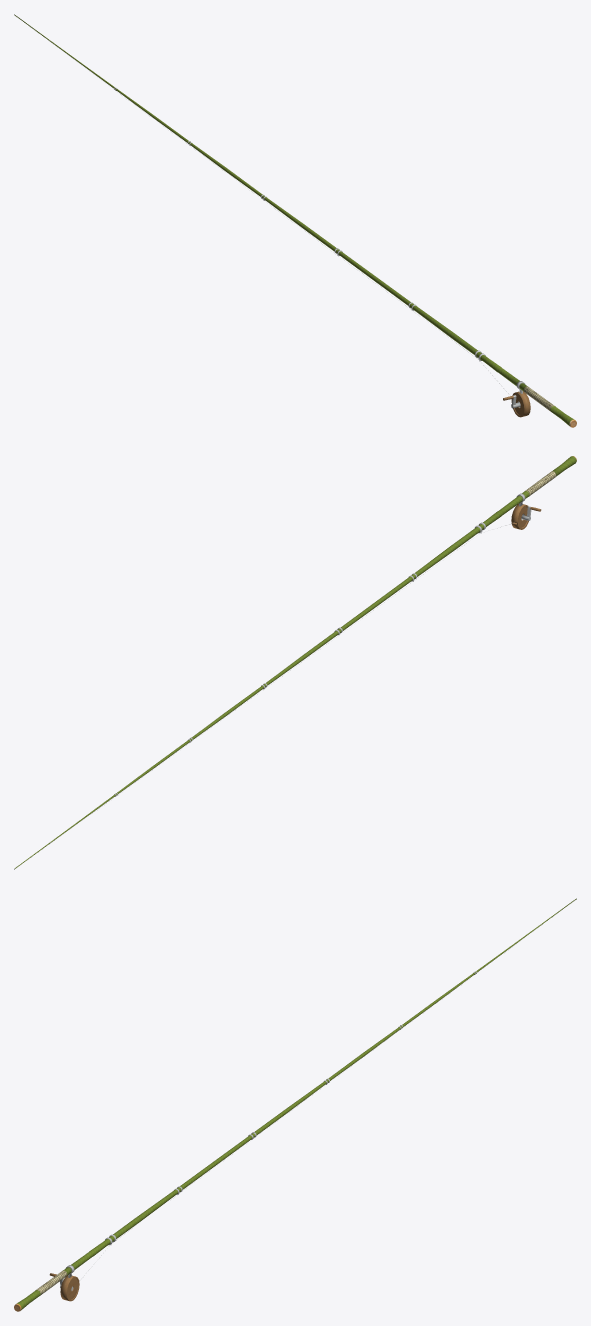
The model's file is bamboo_fishing_rod.glb.
3 renders of one model, top to bottom at view 1: azimuth 30°, elevation 25°; view 2: azimuth 150°, elevation 25°; view 3: azimuth 330°, elevation 25°, orthographic.
Parts seen in each view (by area): view 1: Rod; view 2: Rod; view 3: Rod.
Part boxes in pixels (x1,y1,x2,y2): Rod: (14, 14, 576, 427); Rod: (15, 456, 576, 868); Rod: (14, 898, 576, 1311).
Size of the model in its own units: 0.1028 by 0.1506 by 4.49.
6 materials, 6 textured.
